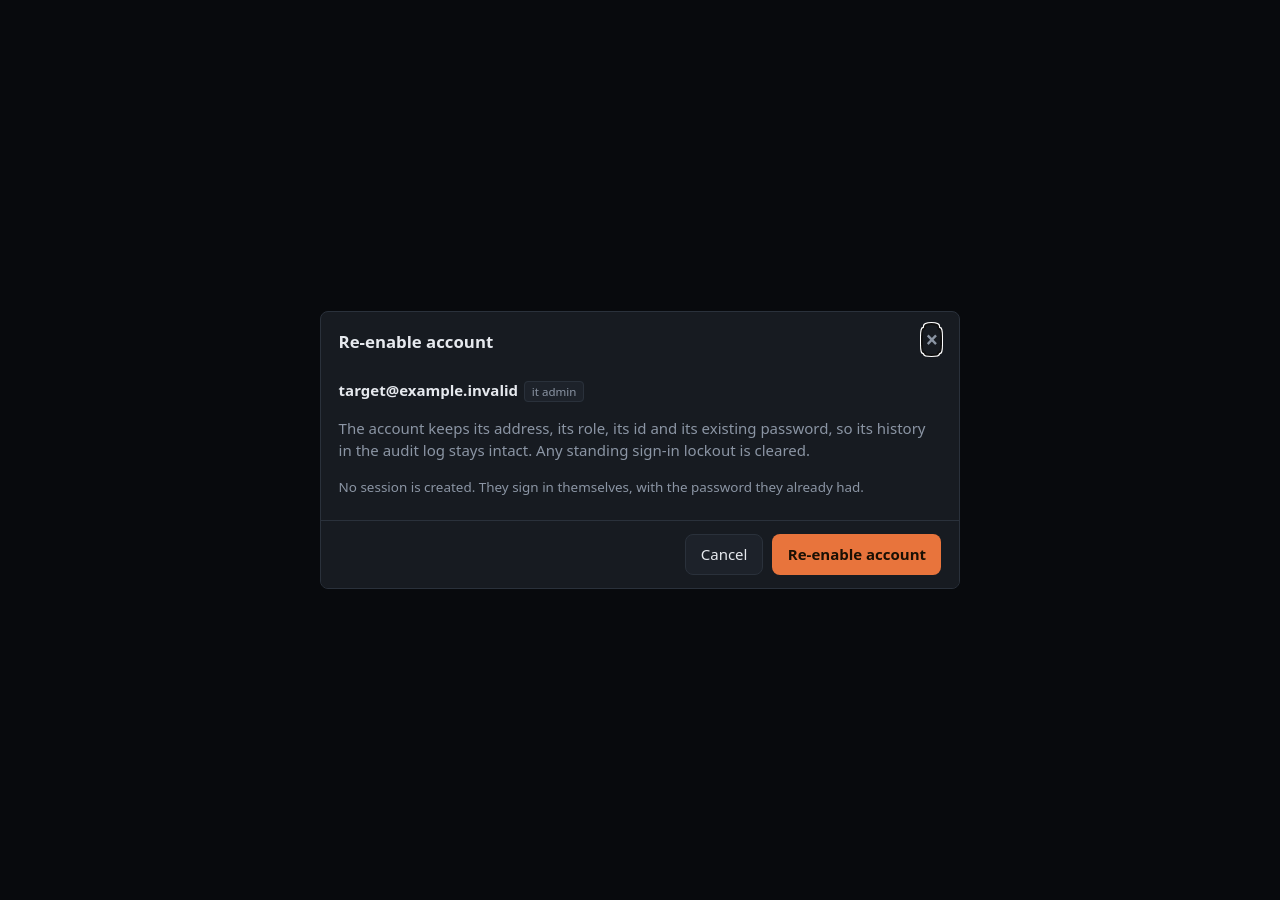
it: UserActionsDialog › enable › keeps the dialog open and shows the refusal when already active
The width and height of the screenshot is (1280, 900).
Click the button "Re-enable account": x=857, y=555 top-left (772, 534), bottom-right (941, 575)
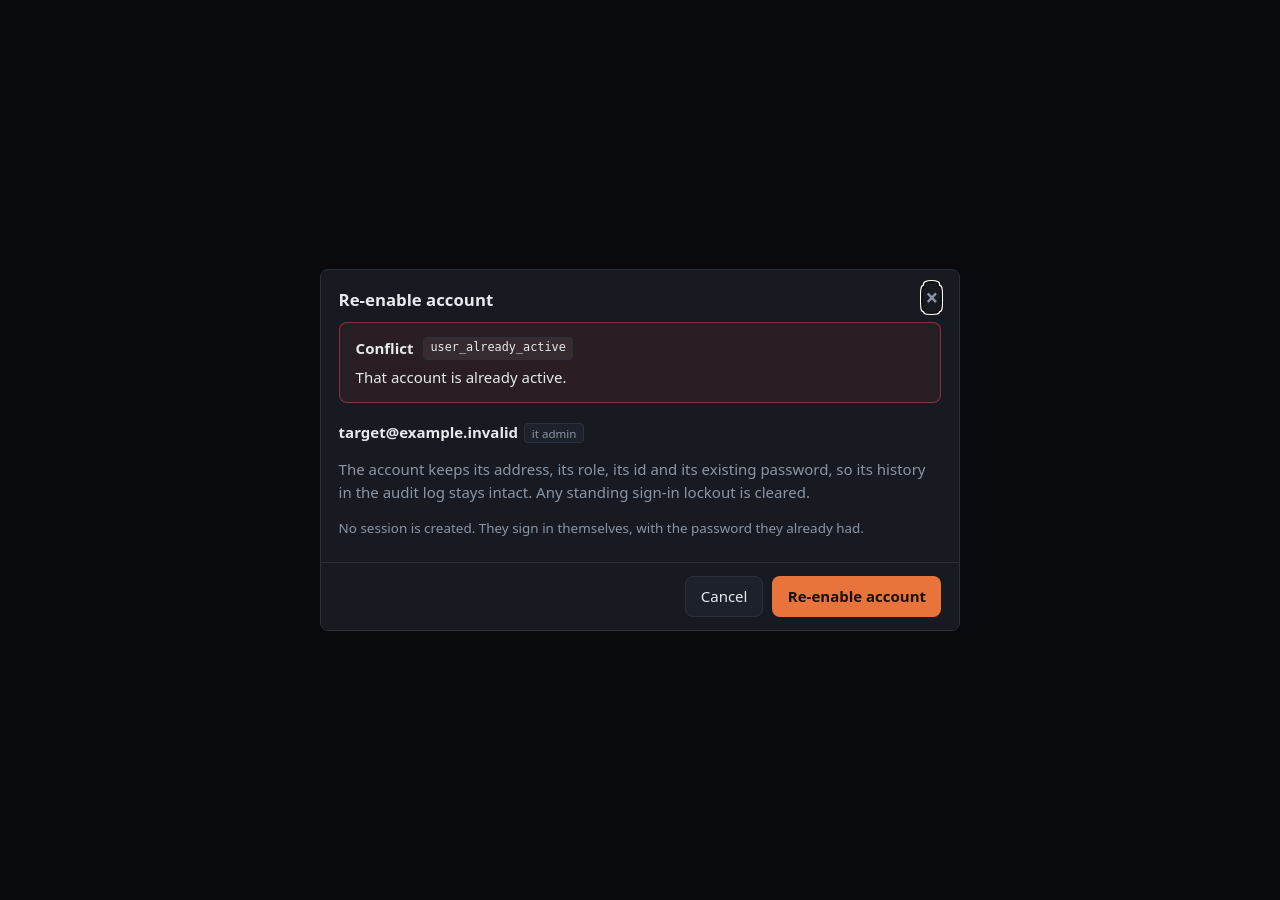
Expected: the text "user_already_active" is shown, top-left (423, 337), bottom-right (573, 360)
